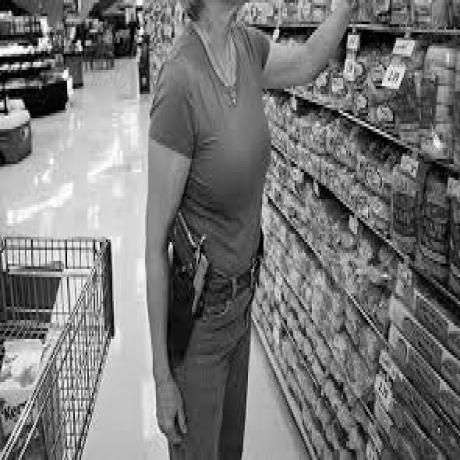Guns: (169, 206, 204, 344)
